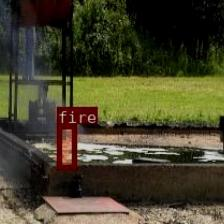fire: (57, 124, 76, 168)
